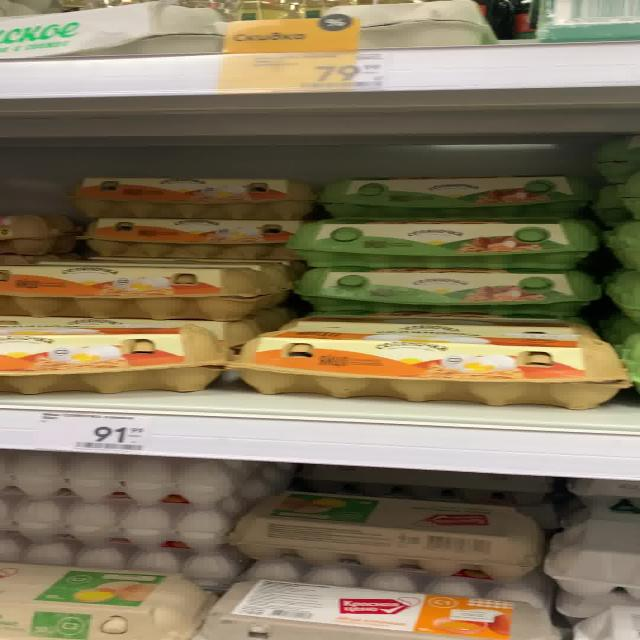egg box: (223, 317, 626, 405), (228, 486, 544, 584), (194, 581, 570, 637), (0, 257, 292, 318), (296, 259, 602, 317), (0, 320, 225, 393), (282, 220, 604, 268), (320, 173, 595, 221), (73, 212, 310, 260), (71, 176, 317, 219)
